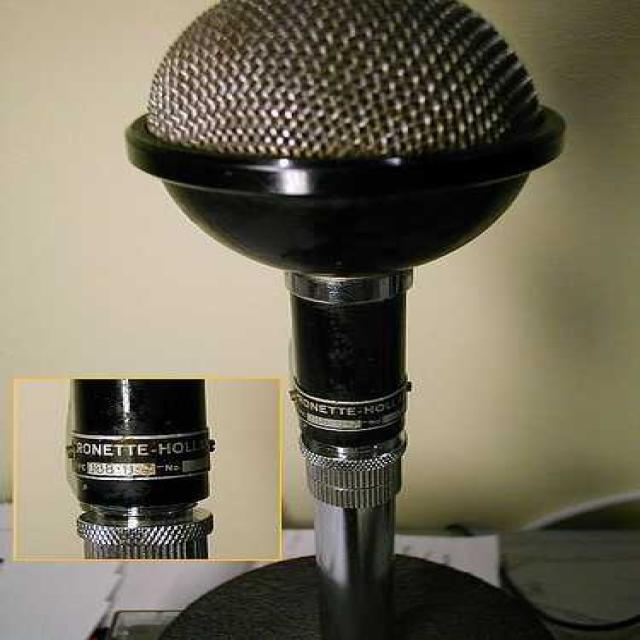microphone: (129, 7, 569, 635)
